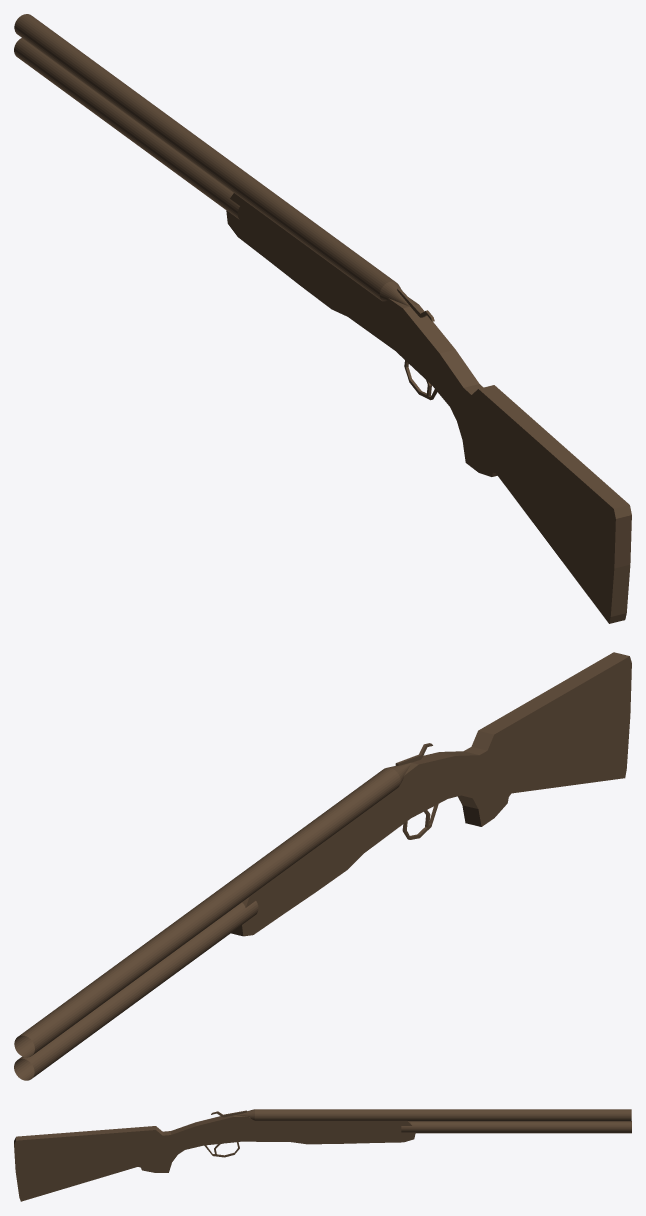
File: shotgun.fbx
3 views of the same model, one above another, from view 1: azimuth 30°, elevation 25°; view 2: azimuth 150°, elevation 25°; view 3: azimuth 270°, elevation 25° (orthographic). The views are drawn at different scales.
Parts seen in each view (by area): view 1: Plane; view 2: Plane; view 3: Plane.
Part boxes in pixels (x1,y1,x2,y2): Plane: (14, 14, 631, 623); Plane: (14, 652, 631, 1080); Plane: (14, 1109, 631, 1201).
Size of the model in its own units: 18.63 by 151 by 940.
